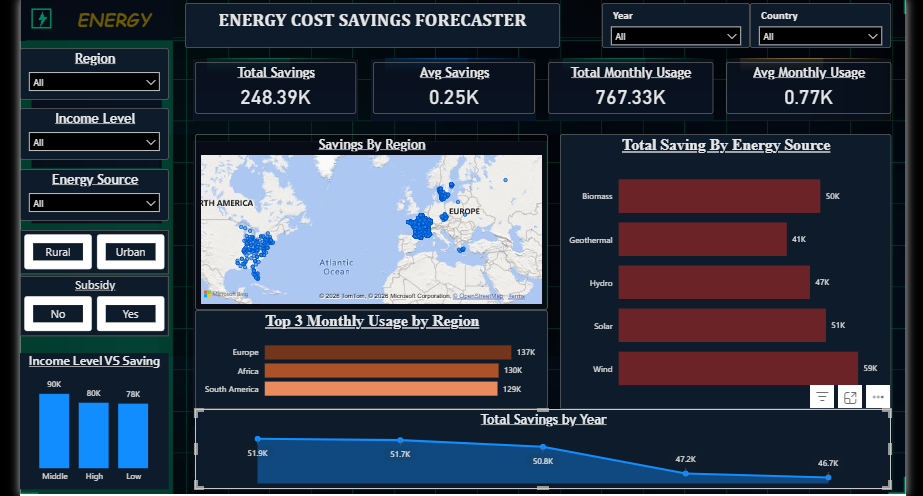

What the dashboard file says about the page in this screenshot:
{"tool":"powerbi","page":{"name":"Page 2","canvas":[1280,720],"ordinal":0},"visuals":[{"type":"textbox","box":[238.6,7.2,542.2,65.1],"z":0},{"type":"slicer","fields":{"Values":["Renewable_Energy_Usage_Sampled.Year"]},"box":[841.4,7.2,214,65.1],"z":1000},{"type":"slicer","fields":{"Values":["Renewable_Energy_Usage_Sampled.Country"]},"box":[1055.4,7.2,203.9,65.1],"z":2000},{"type":"card","title":"Total Savings","fields":{"Values":["Renewable_Energy_Usage_Sampled.Total_Savings"]},"box":[253,92.5,232.8,75.2],"z":3000},{"type":"card","title":"Avg Savings","fields":{"Values":["Avg(Renewable_Energy_Usage_Sampled.Cost_Savings_USD)"]},"box":[510.4,92.5,234.2,75.2],"z":4000},{"type":"card","title":"Total Monthly Usage","fields":{"Values":["Sum(Renewable_Energy_Usage_Sampled.Monthly_Usage_kWh)"]},"box":[763.4,92.5,238.6,75.2],"z":5000},{"type":"card","title":"Avg Monthly Usage","fields":{"Values":["Avg(Renewable_Energy_Usage_Sampled.Monthly_Usage_kWh)"]},"box":[1020.7,92.5,238.6,75.2],"z":6000},{"type":"slicer","title":"Region","fields":{"Values":["Renewable_Energy_Usage_Sampled.Region"]},"box":[0,72.3,215.4,75.2],"z":7000},{"type":"advancedSlicerVisual","fields":{"Values":["Renewable_Energy_Usage_Sampled.Urban_Rural"]},"box":[0,335.4,215.4,63.6],"z":8000},{"type":"slicer","title":"Income Level","fields":{"Values":["Renewable_Energy_Usage_Sampled.Income_Level"]},"box":[0,159,215.4,75.2],"z":9000},{"type":"advancedSlicerVisual","title":"Subsidy","fields":{"Values":["Renewable_Energy_Usage_Sampled.Subsidy_Received"]},"box":[0,401.9,215.4,86.7],"z":10000},{"type":"slicer","title":"Energy Source","fields":{"Values":["Renewable_Energy_Usage_Sampled.Energy_Source"]},"box":[0,247.2,215.4,75.2],"z":11000},{"type":"map","title":"Savings By Region","fields":{"Category":["Renewable_Energy_Usage_Sampled.Cost_Savings_USD"]},"box":[253,196.6,510.4,254.5],"z":12000},{"type":"barChart","title":"Total Saving By Energy Source","fields":{"Category":["Renewable_Energy_Usage_Sampled.Energy_Source"],"Y":["Sum(Renewable_Energy_Usage_Sampled.Cost_Savings_USD)"]},"box":[780.7,196.6,478.6,397.6],"z":13000},{"type":"lineChart","title":"Total Savings by Year","fields":{"Category":["Renewable_Energy_Usage_Sampled.Year"],"Y":["Sum(Renewable_Energy_Usage_Sampled.Cost_Savings_USD)"]},"box":[253,594.2,1006.3,115.7],"z":14000},{"type":"columnChart","title":"Income Level VS Saving","fields":{"Category":["Renewable_Energy_Usage_Sampled.Income_Level"],"Y":["Sum(Renewable_Energy_Usage_Sampled.Cost_Savings_USD)"]},"box":[0,513.3,215.4,196.6],"z":15000},{"type":"clusteredBarChart","title":"Top 3 Monthly Usage by Region","fields":{"Category":["Renewable_Energy_Usage_Sampled.Region"],"Y":["Sum(Renewable_Energy_Usage_Sampled.Monthly_Usage_kWh)"]},"box":[253,451.1,510.4,143.1],"z":16000},{"type":"textbox","box":[46.3,7.2,179.3,47.7],"z":17000}]}

Visuals, with their boxes in screenshot pixels (x1, y1, x2, y2):
textbox: 187/0/568/39
slicer - Renewable_Energy_Usage_Sampled.Year: 611/0/761/39
slicer - Renewable_Energy_Usage_Sampled.Country: 761/0/905/39
"Total Savings" card: 197/53/361/106
"Avg Savings" card: 378/53/543/106
"Total Monthly Usage" card: 556/53/724/106
"Avg Monthly Usage" card: 737/53/905/106
"Region" slicer: 19/39/171/92
advancedSlicerVisual - Renewable_Energy_Usage_Sampled.Urban_Rural: 19/224/171/269
"Income Level" slicer: 19/100/171/153
"Subsidy" advancedSlicerVisual: 19/271/171/332
"Energy Source" slicer: 19/162/171/215
"Savings By Region" map: 197/126/556/305
"Total Saving By Energy Source" barChart: 568/126/905/406
"Total Savings by Year" lineChart: 197/406/905/487
"Income Level VS Saving" columnChart: 19/349/171/487
"Top 3 Monthly Usage by Region" clusteredBarChart: 197/305/556/406
textbox: 52/0/178/27
